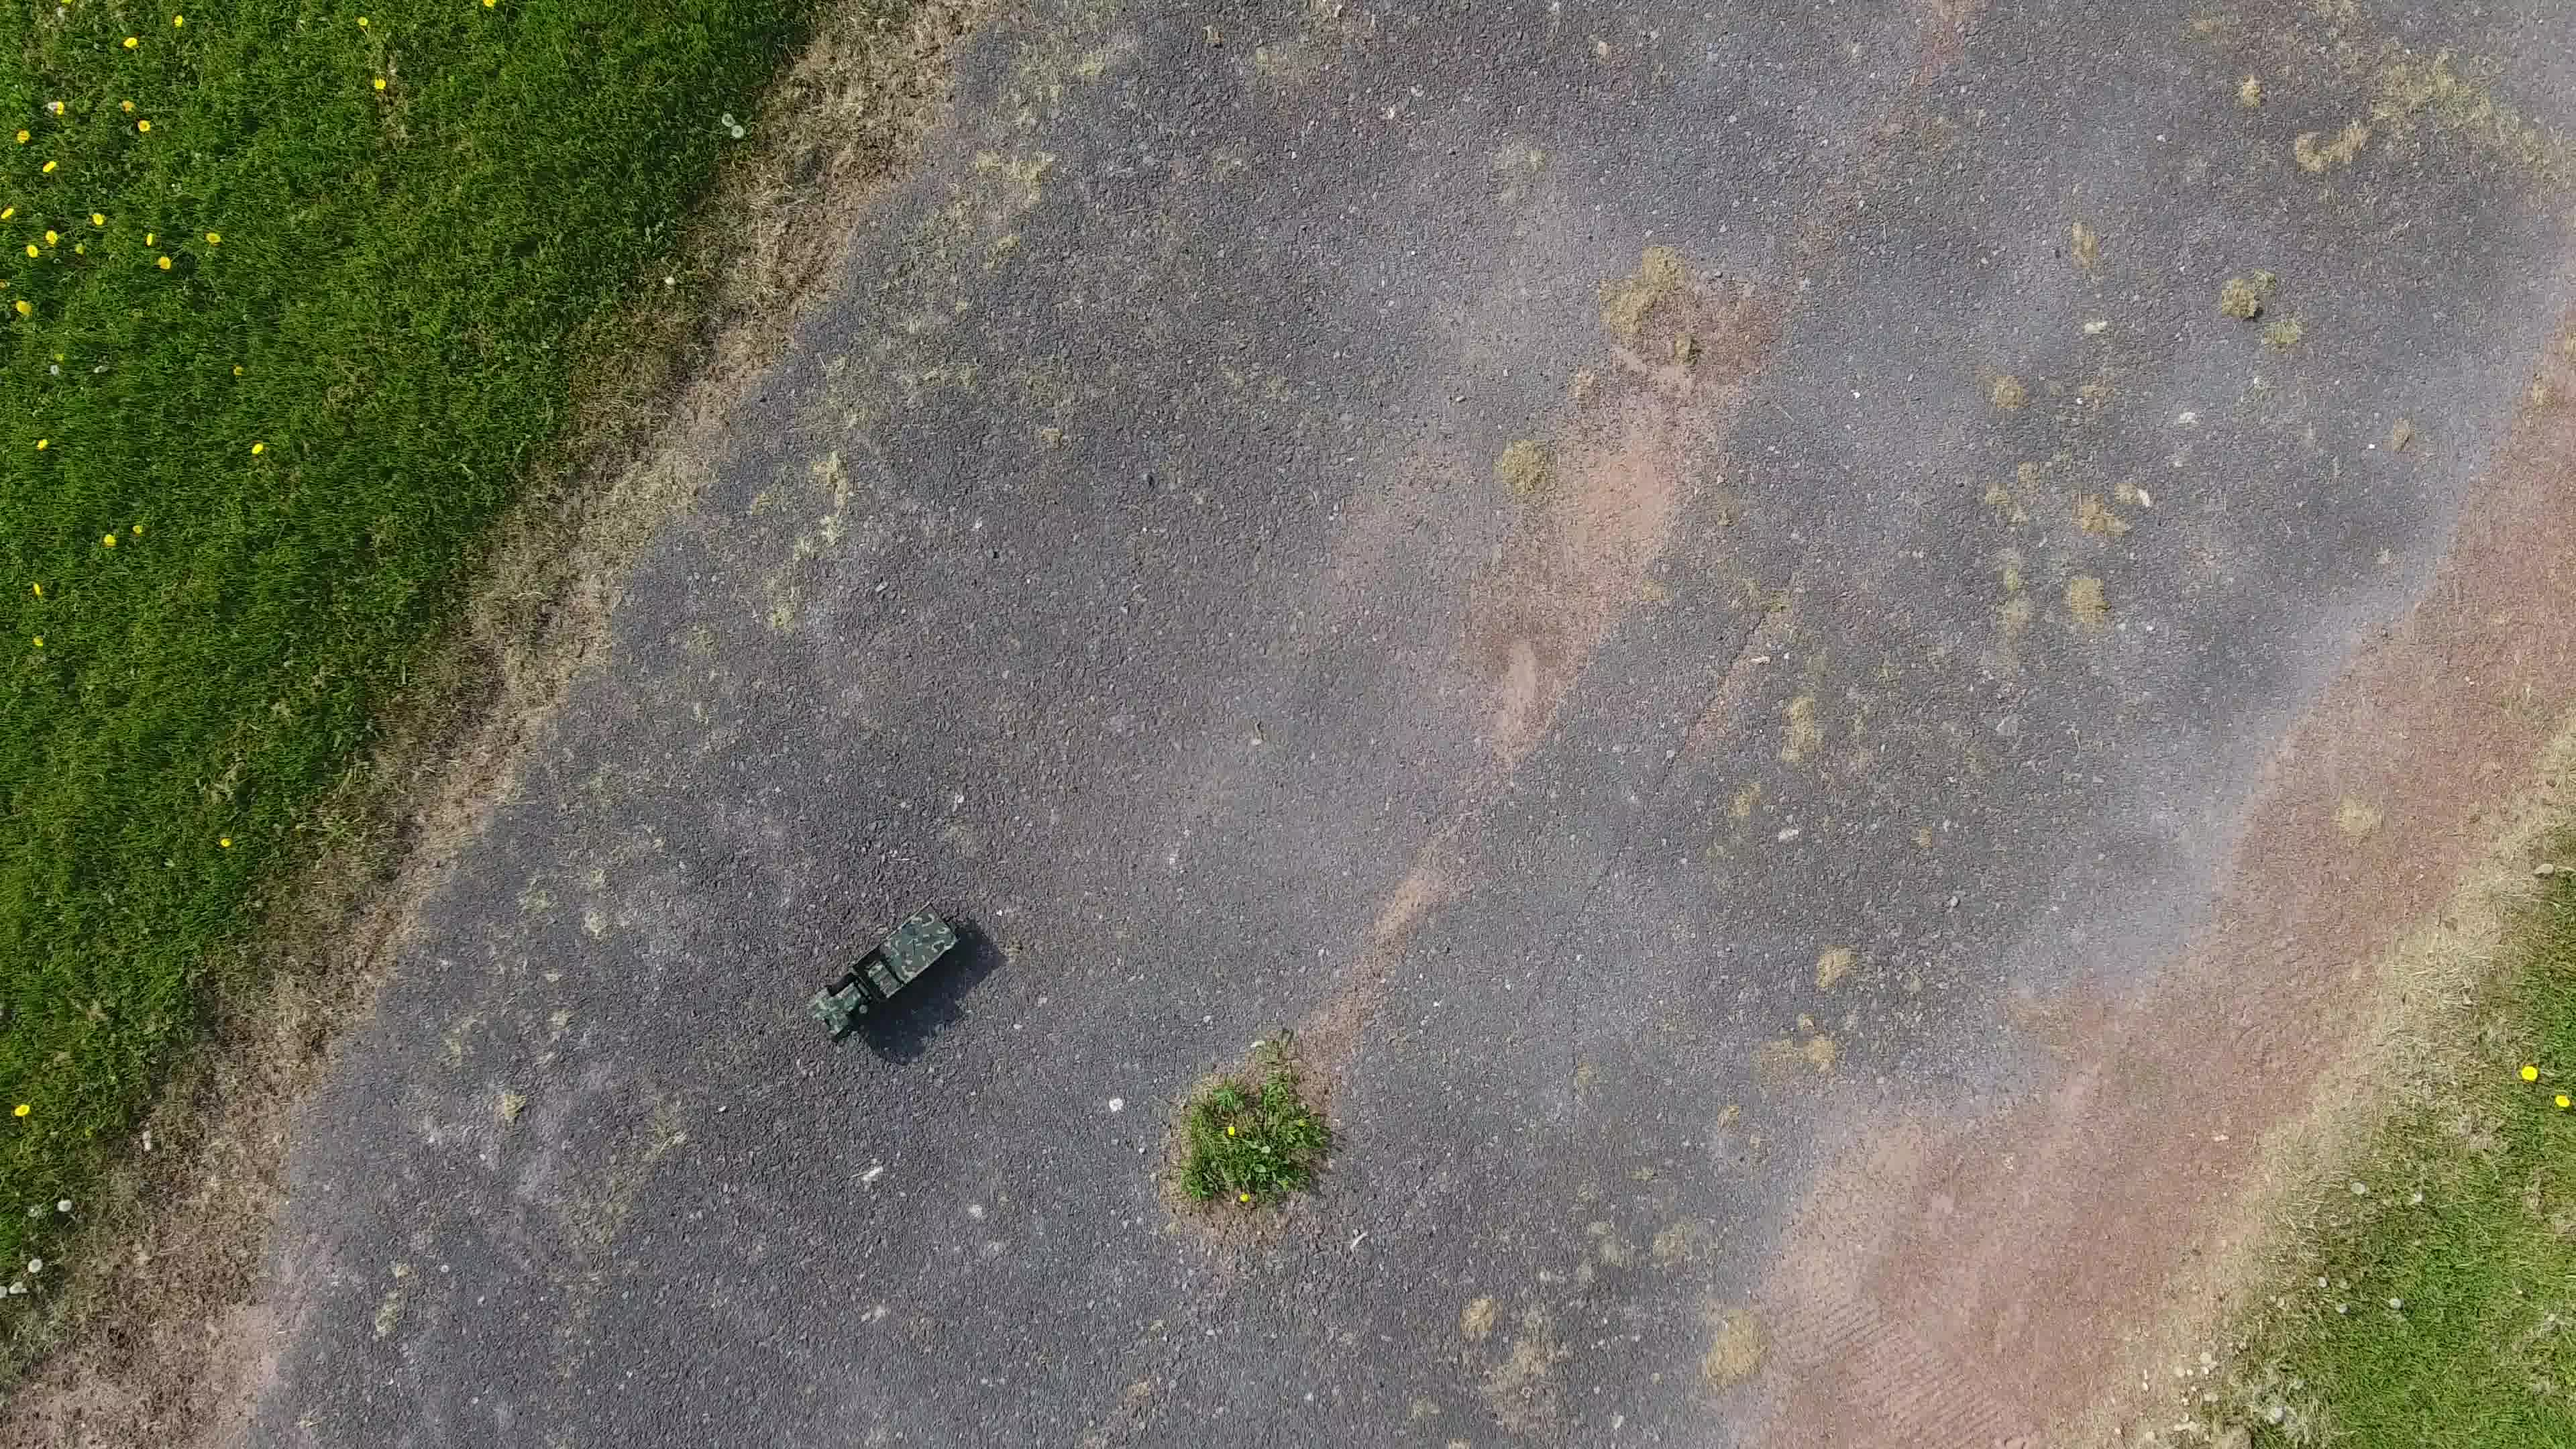transporter9_camo: (801, 899, 962, 1051)
